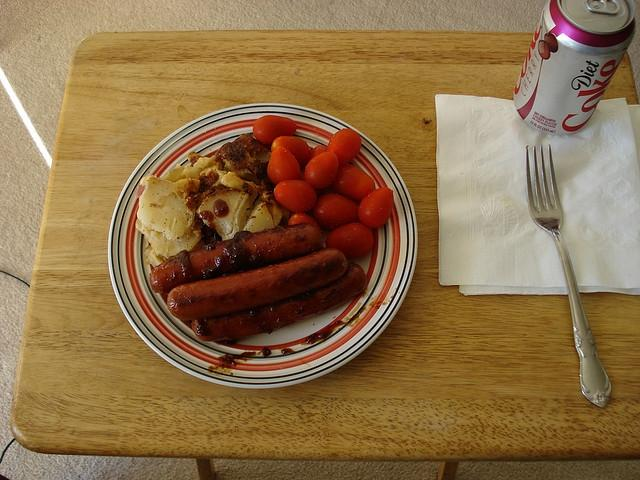tomato: (313, 193, 362, 231), (326, 223, 374, 260), (334, 164, 376, 200), (274, 180, 317, 214), (359, 188, 394, 228), (252, 115, 298, 145), (326, 128, 362, 166), (304, 151, 339, 189), (271, 136, 311, 168), (267, 147, 300, 185), (288, 214, 322, 232), (310, 145, 328, 161)
